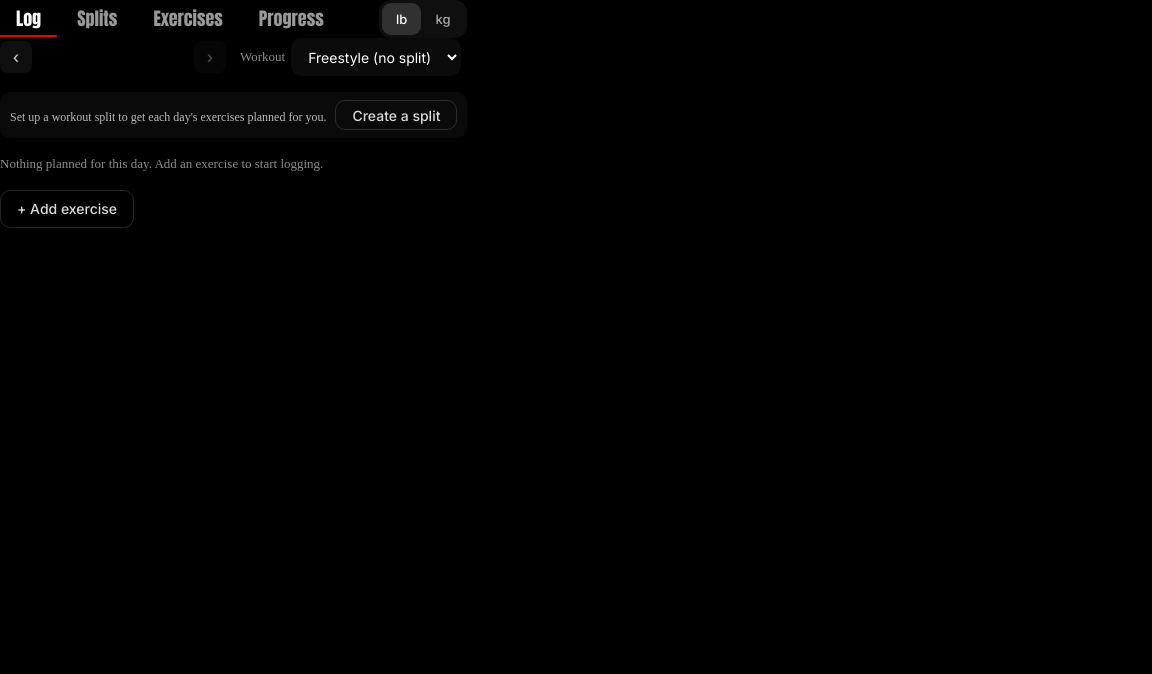
Test case: Workouts page › says when the server can't save a set
Click the button "+ Add exercise". click: x=67, y=208
box: [0,190,134,228]
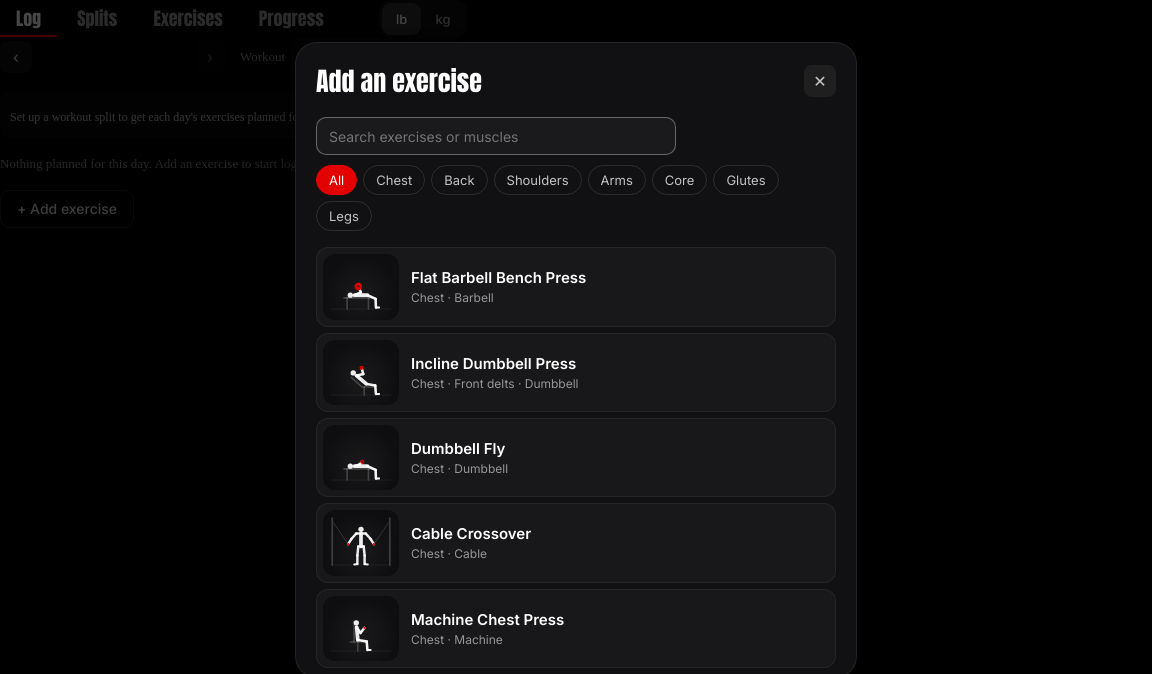
Click the button "Flat Barbell Bench Press Chest · Barbell". click: x=576, y=287
box: [316,247,836,326]
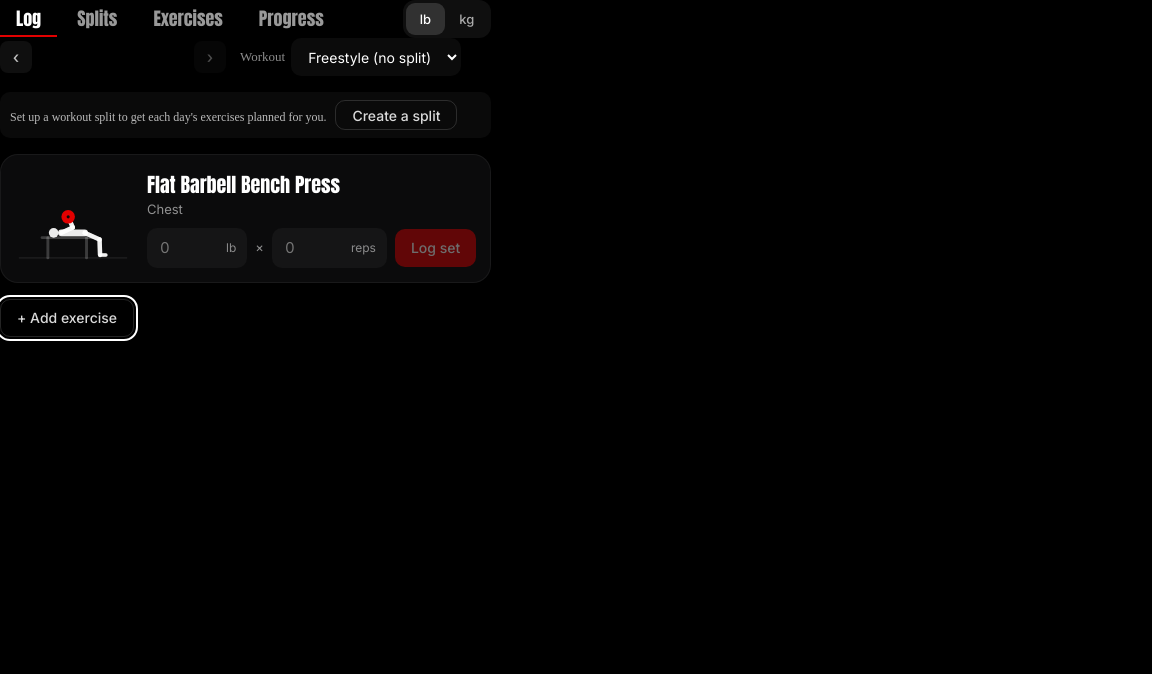
Type "5" into the field labelled "reps". click: x=314, y=248
box: [283,237,345,258]
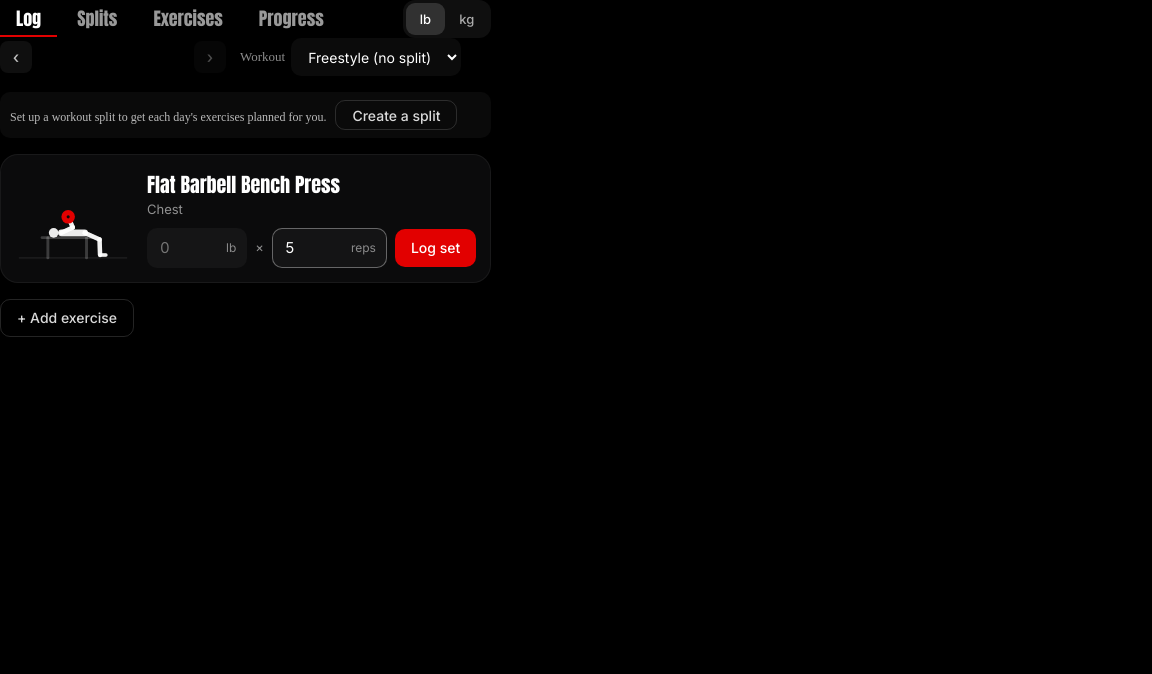
Click the button "Log set". click: x=436, y=248
box: [395,228,476,266]
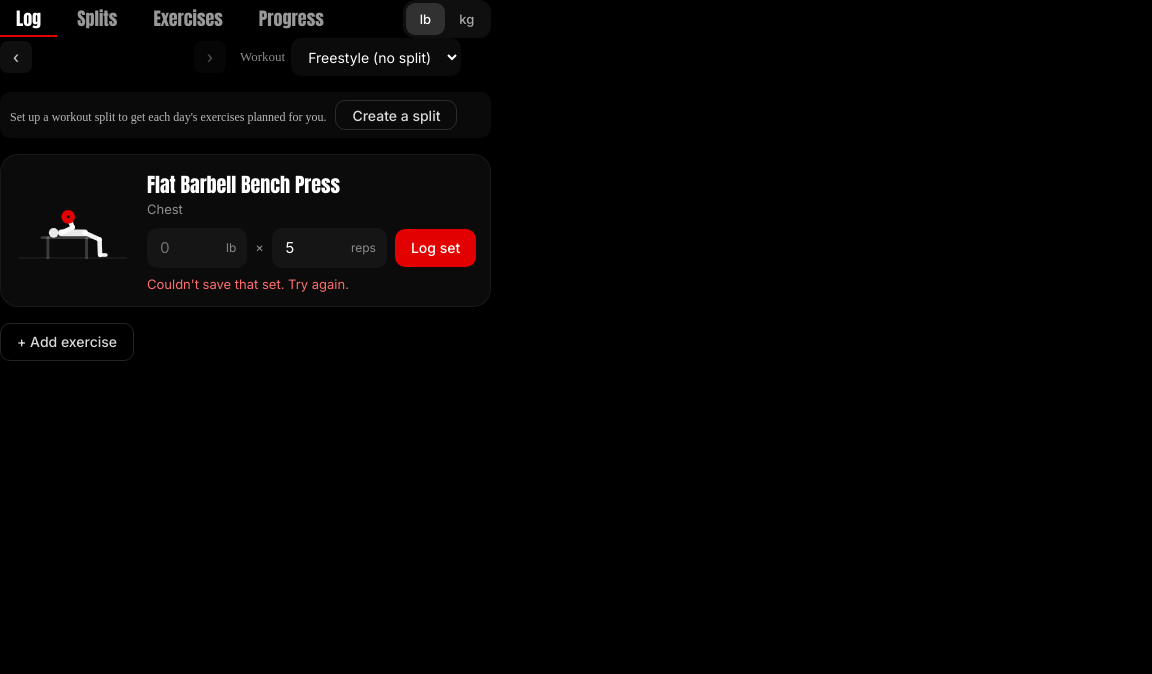
Result: the message reads "Couldn't save that set. Try again." at [147,276,349,292]
